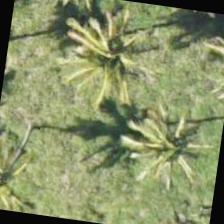Kelapa_Sawit: (48, 0, 150, 102), (120, 88, 222, 190), (0, 129, 57, 216)
